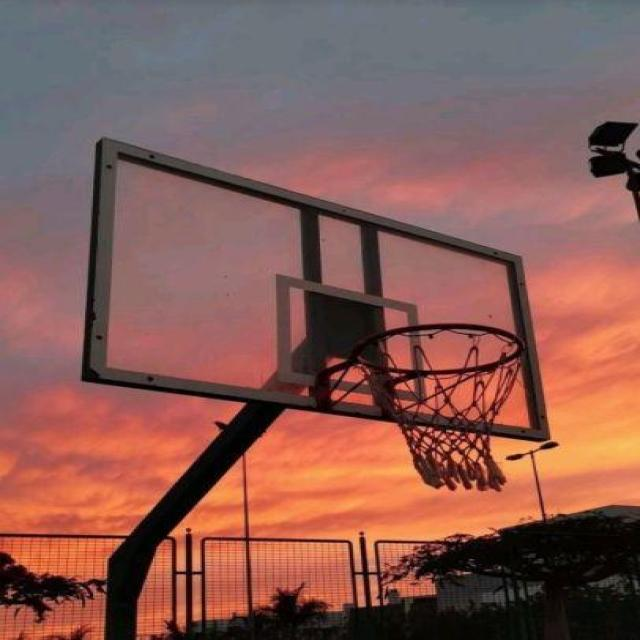hoop: (331, 315, 602, 515)
